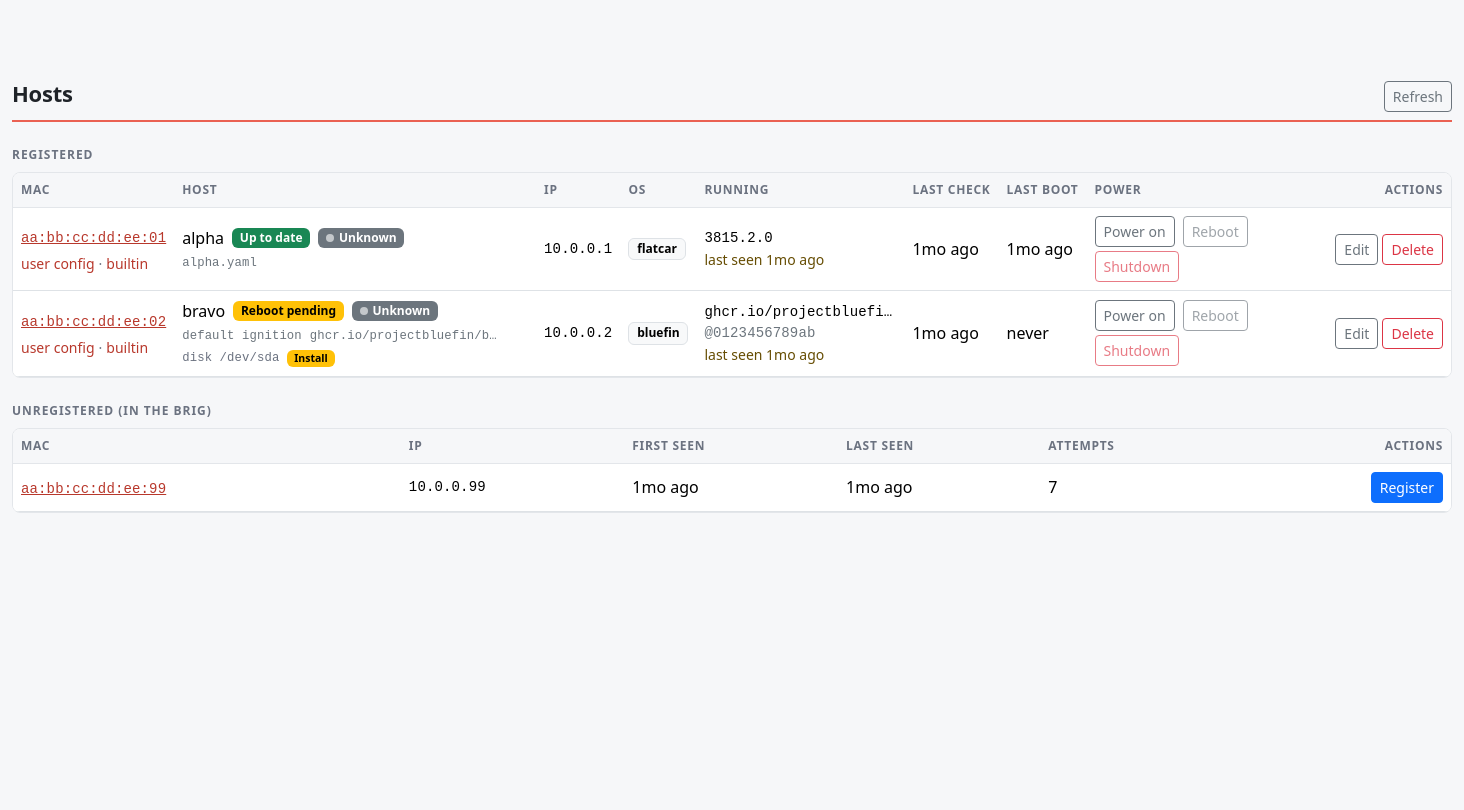
Test case: HostsView › registers an unknown host pre-filled with its MAC and IP and moves it to the hosts table
The width and height of the screenshot is (1464, 810).
Click the button "Register". click: (1407, 487)
box: [1371, 472, 1443, 503]
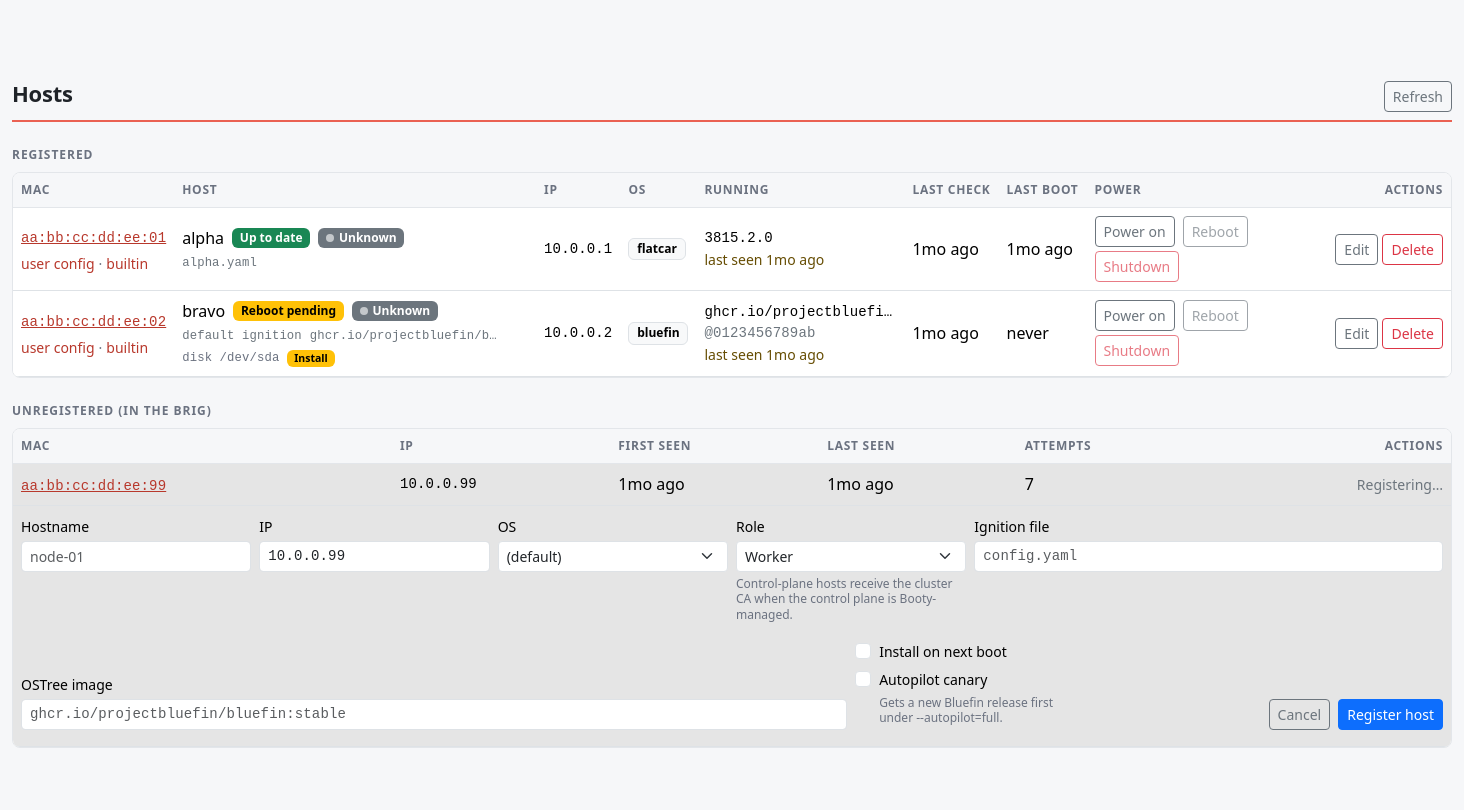
Now the row that starts with "Hostname" is shown, box [13, 505, 1451, 746]
Now the field labelled "IP" holds "10.0.0.99", box [259, 541, 490, 572]
Type "charlie" into the field labelled "Hostname". click: (136, 556)
box: [21, 541, 251, 572]
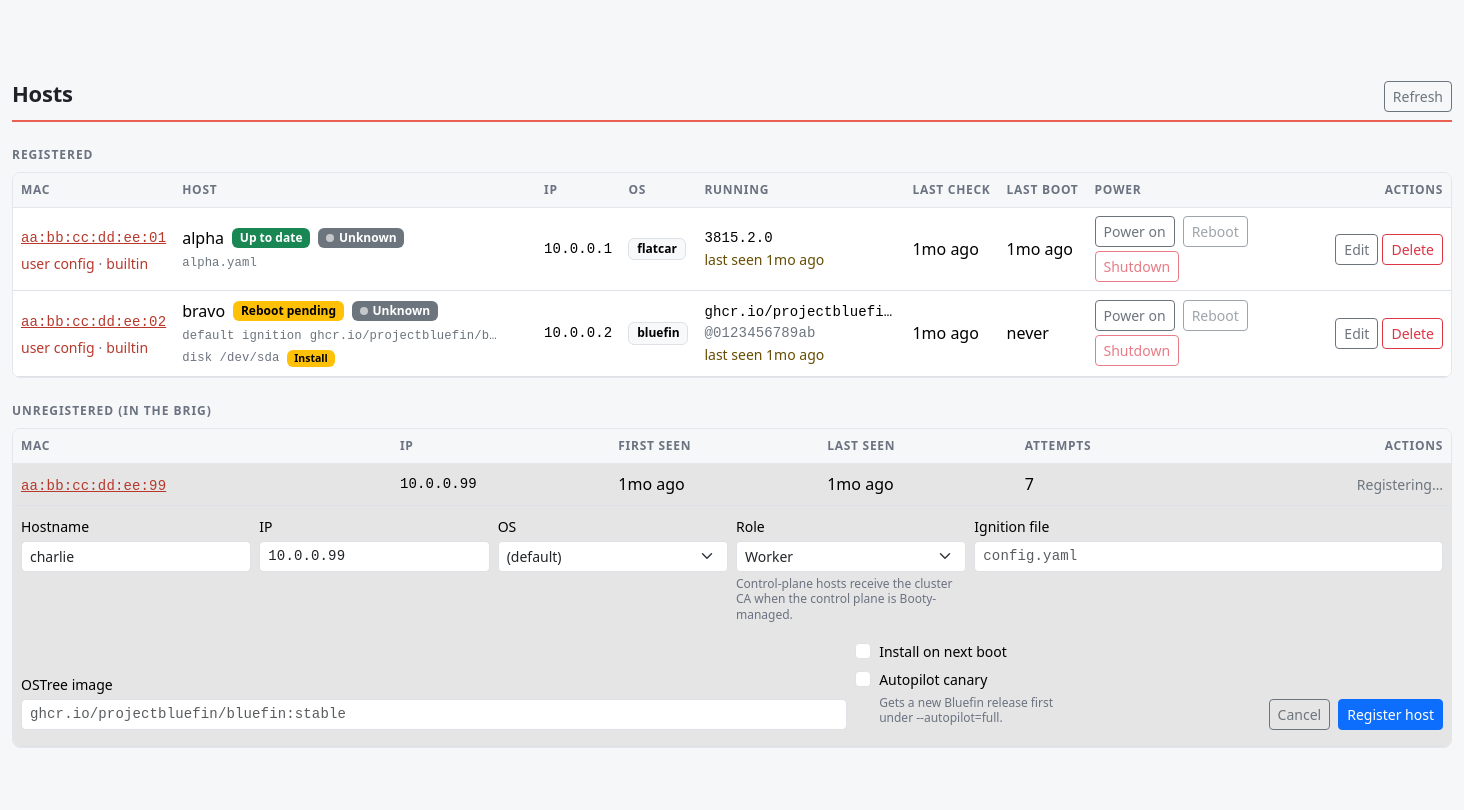
Select "coreos" in the dropdown labelled "OS". click: (613, 556)
box: [498, 541, 728, 572]
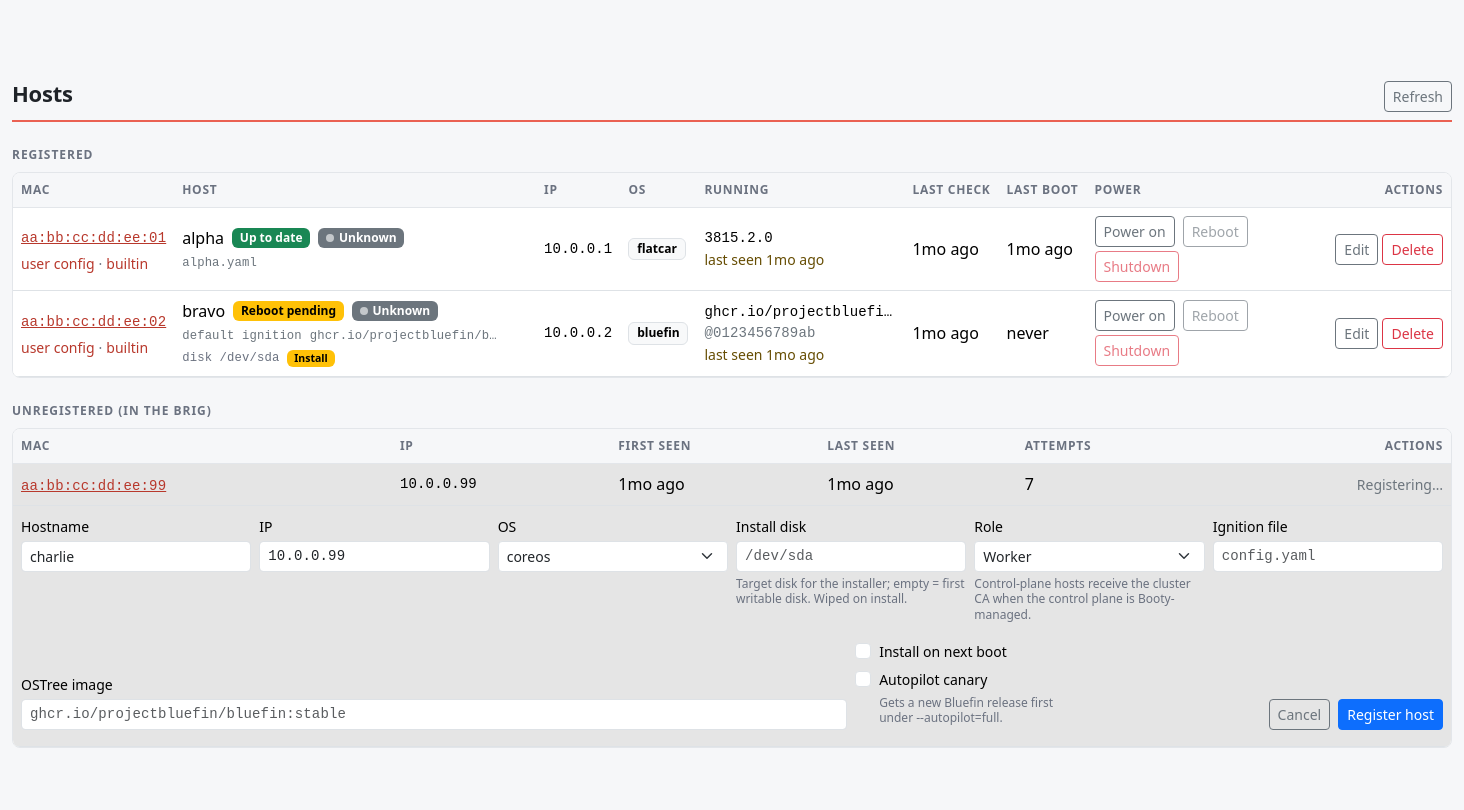
Submit the form, box [21, 506, 1443, 738]
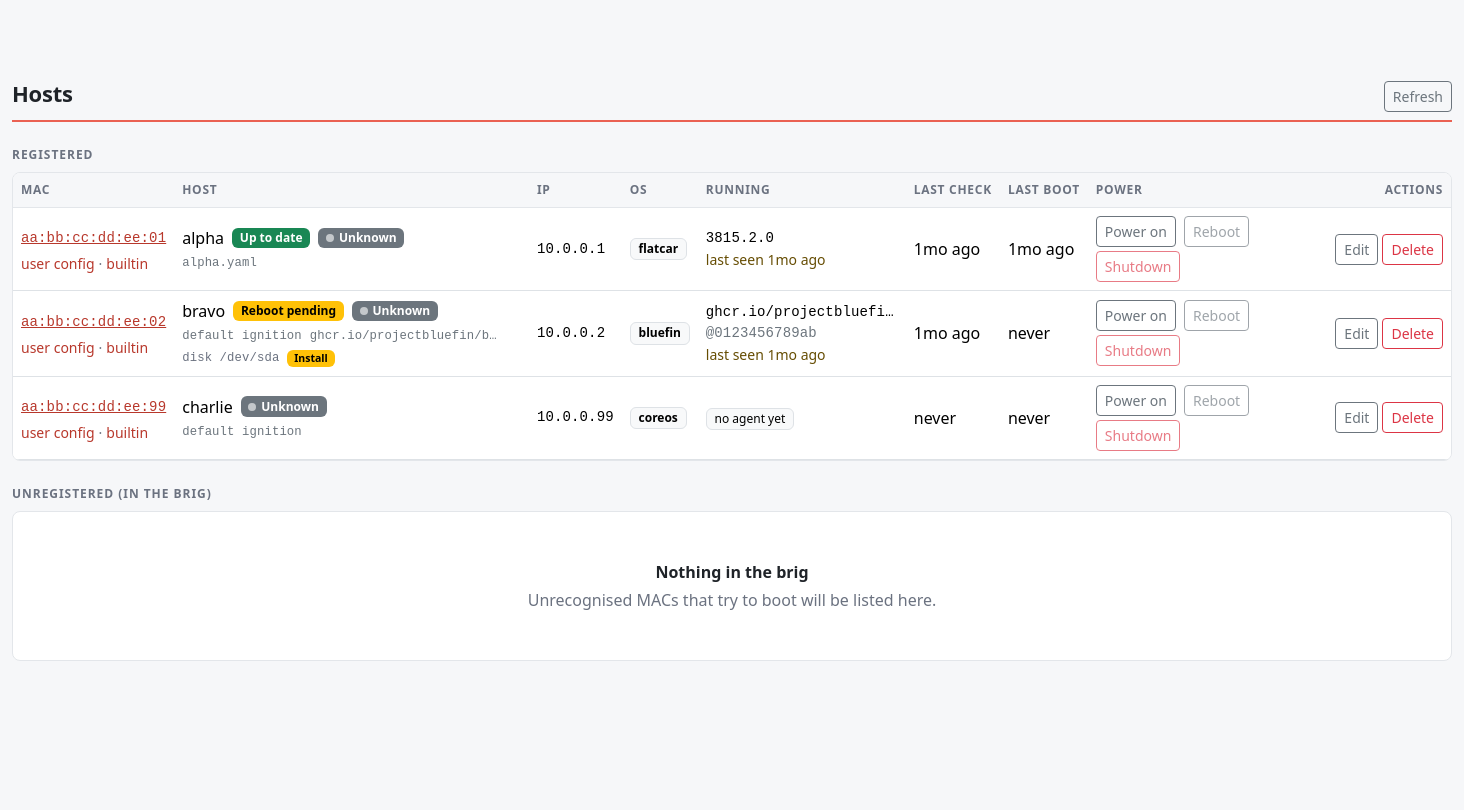
Now the text "Nothing in the brig" is shown, box [656, 561, 809, 583]
